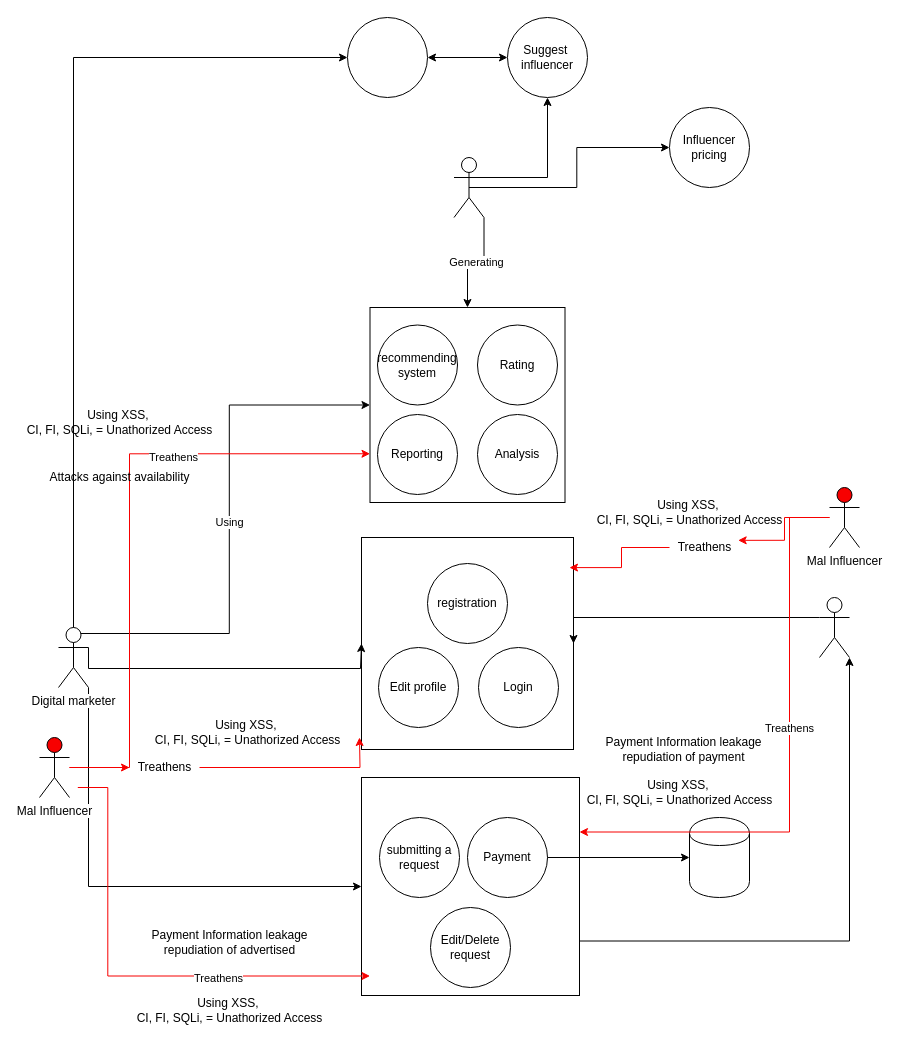
Some shapes in this 899 by 1043 pixel diagram are drawn without their labels. Here are the shapes that lost their labels. From the top down, the box of each, then its label:
(346, 16, 428, 98): Search influencer
(453, 156, 484, 218): Analytic system
(818, 596, 850, 658): Influencer
(688, 816, 750, 898): Bank
